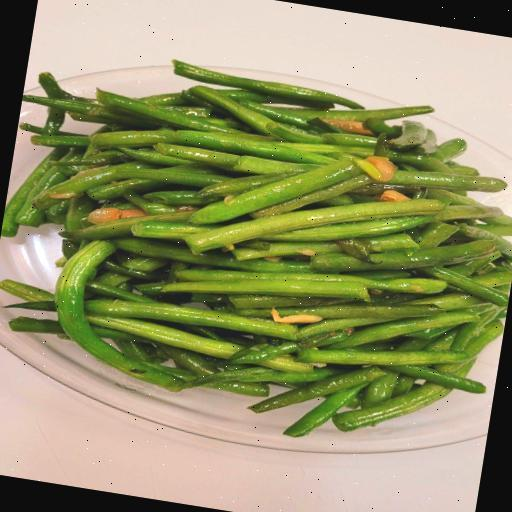buncis_rebus: (0, 27, 512, 476)
